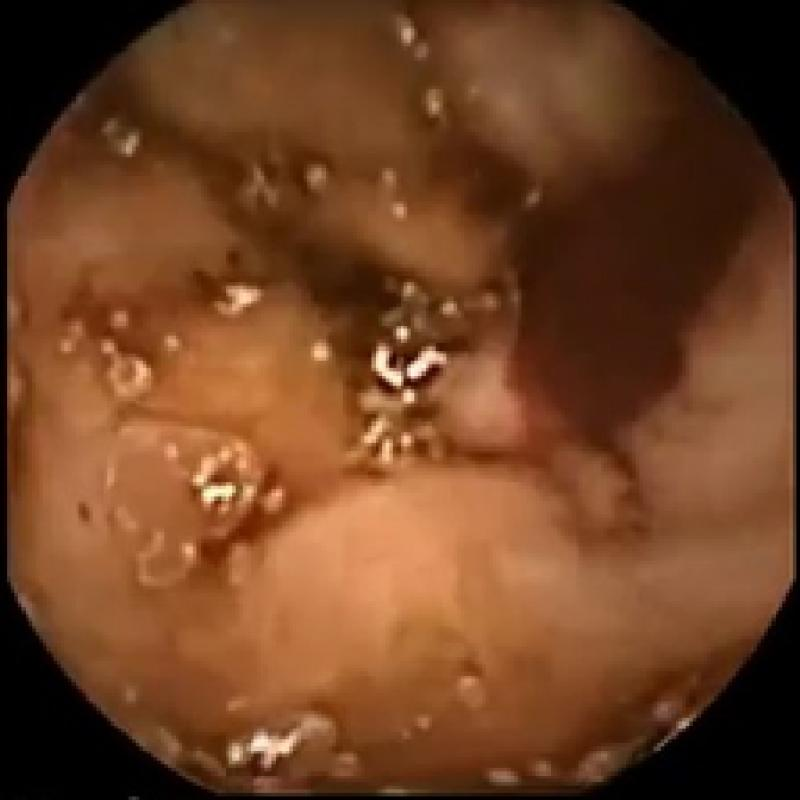bleeding: (489, 79, 768, 454)
